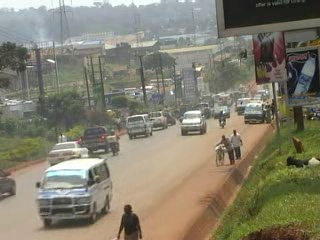Car: (45, 138, 91, 168), (0, 163, 18, 202), (212, 102, 231, 120), (162, 109, 177, 127)
Motorcycle: (103, 127, 123, 158), (216, 107, 228, 128)
